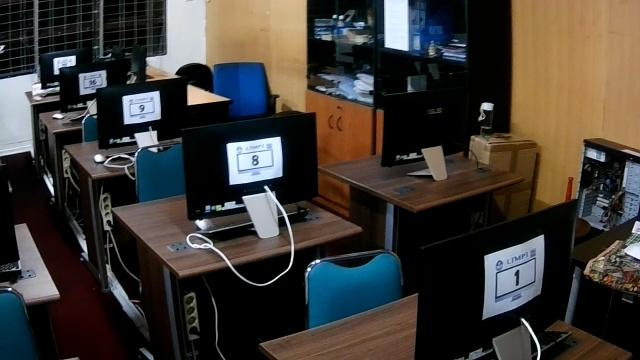AIO PC-Monitor-TV: (414, 198, 577, 359), (180, 110, 319, 239), (95, 76, 186, 150)
Kursi: (211, 61, 279, 124)
Meja: (110, 189, 361, 285), (317, 152, 524, 217)
